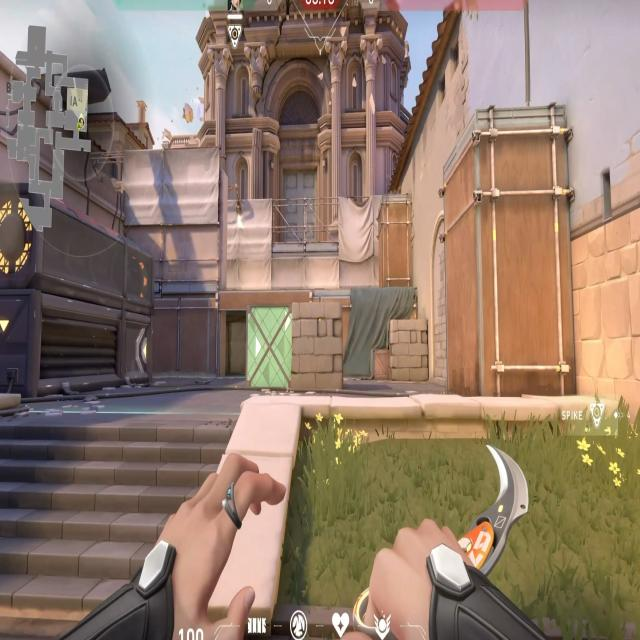A_Heaven_Box: (377, 192, 417, 299)
A_Heaven_Wall: (121, 146, 229, 304)
A_Hell: (204, 294, 323, 384)
A_Site_Box: (245, 304, 348, 394)
